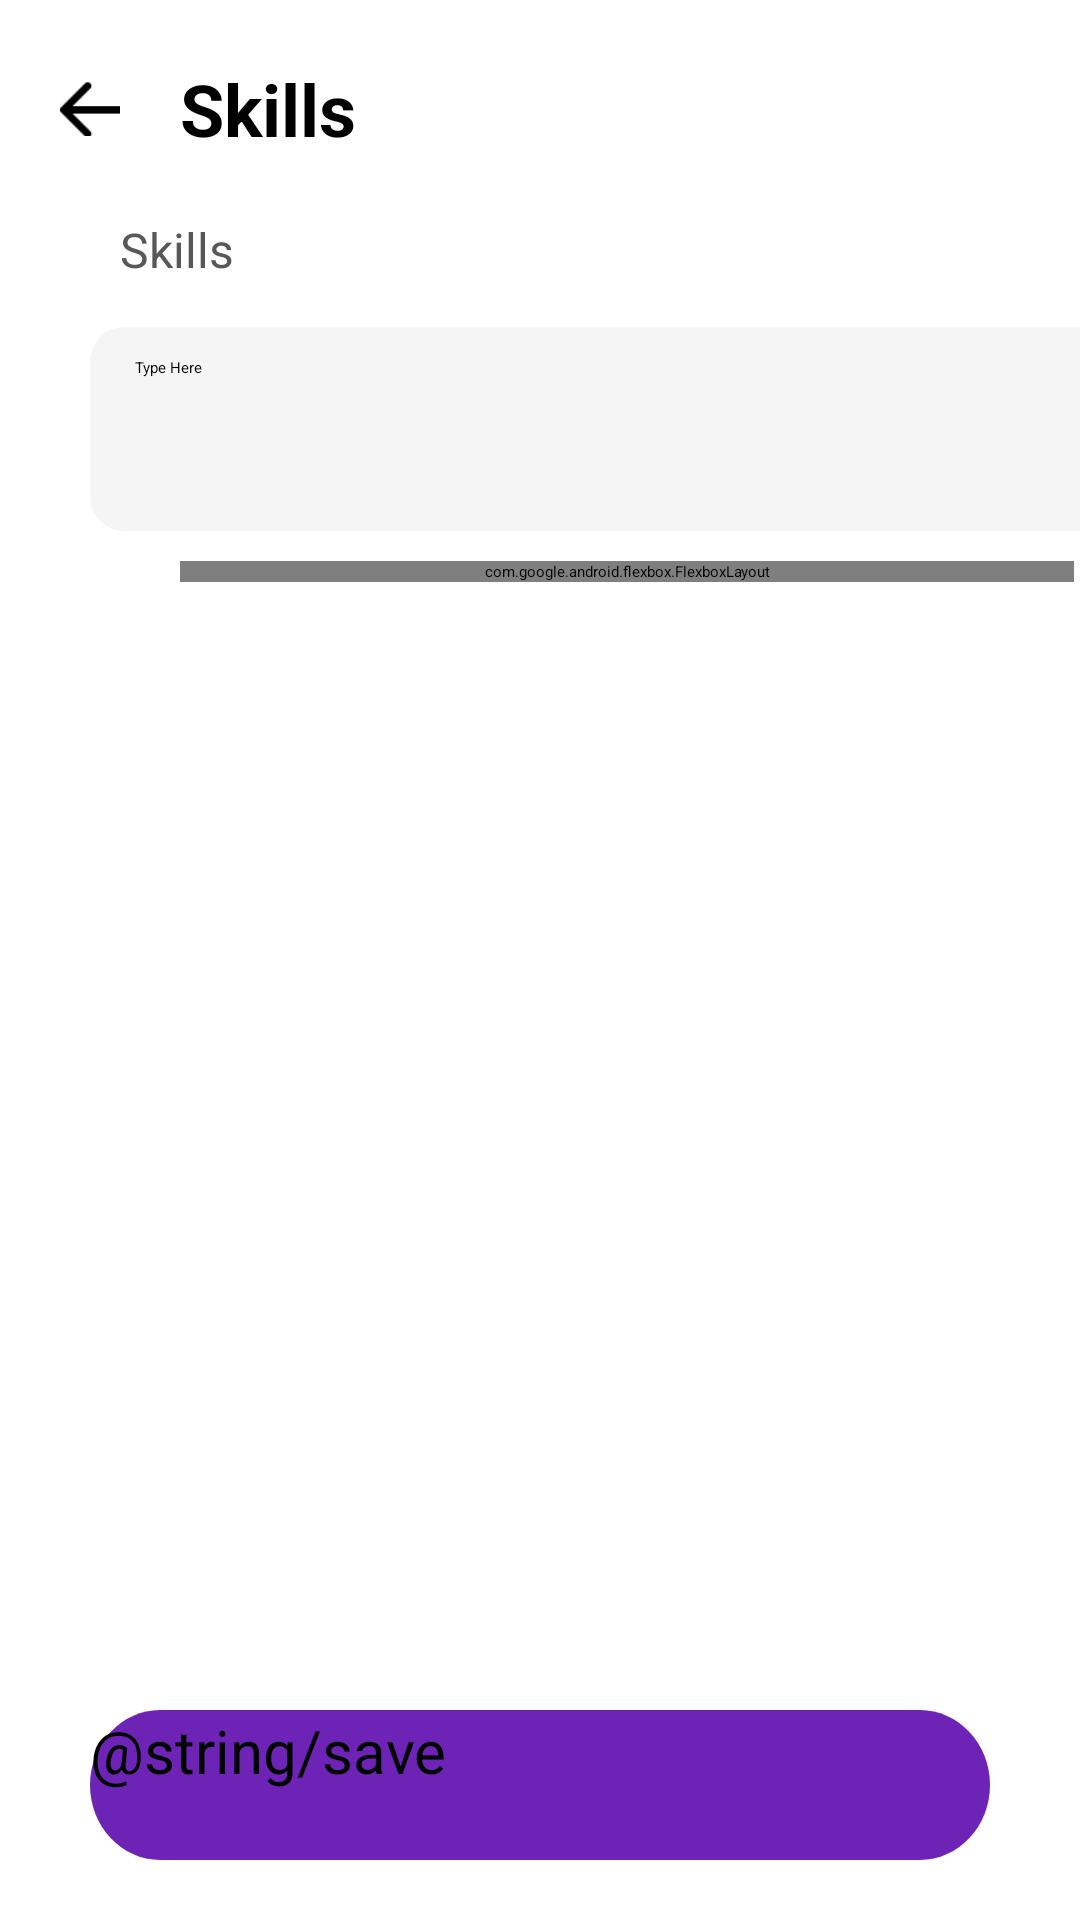

Icon click points for this 1080px×1920px phone screenshot, format (x=x, y=y):
back arrow: (x=90, y=109)
